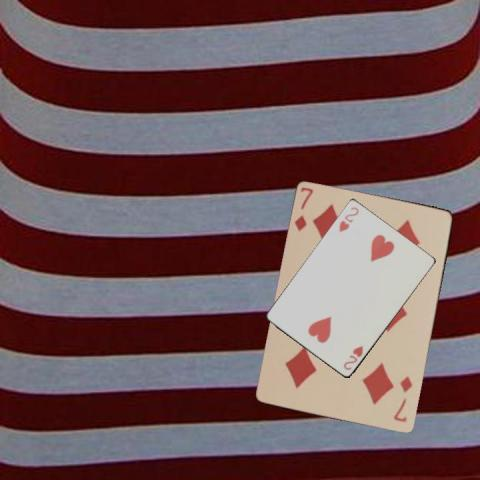2h: (336, 204, 360, 234), (340, 343, 364, 372)
7d: (292, 184, 316, 233), (391, 373, 414, 424)
